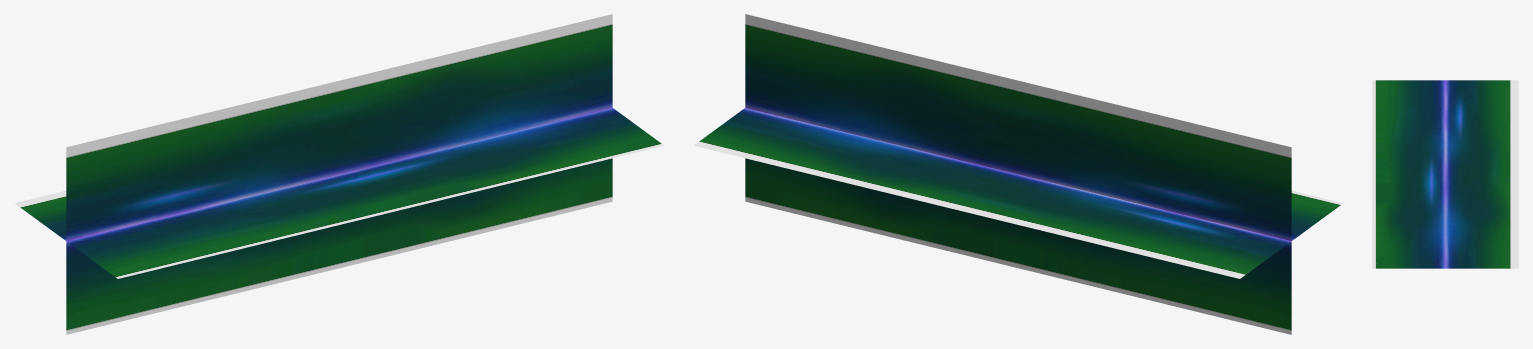
Rendered from qibo009.FBX.
The picture shows the model from 3 angles, left to right: view 1: azimuth 30°, elevation 25°; view 2: azimuth 150°, elevation 25°; view 3: azimuth 270°, elevation 25°; orthographic projection. The views are drawn at different scales.
Parts seen in each view (by area): view 1: qibo009; view 2: qibo009; view 3: qibo009.
Boxes of the visible parts, <box> form: qibo009: <box>15,14,663,334</box>; qibo009: <box>694,14,1342,334</box>; qibo009: <box>1372,80,1518,268</box>.
Size of the model in its own units: 169 by 55.53 by 55.53.
